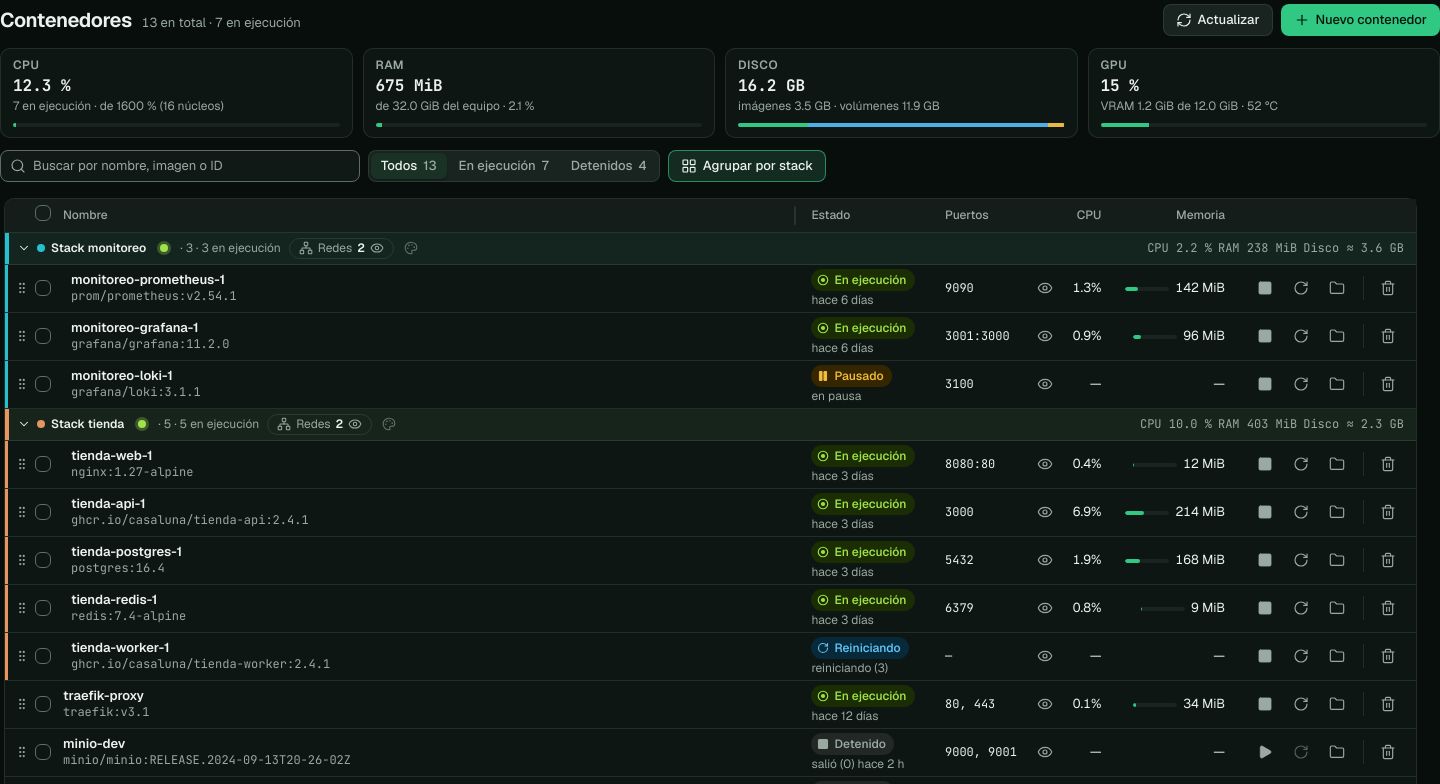
Test: ContainersPage › selección oculta por el filtro no cuenta ni se ejecuta
Expected: the link "tienda-api-1" is shown, x1=71 y1=495 x2=146 y2=512
Click the checkbox named "Seleccionar tienda-web-1". click: (43, 464)
box: x1=35 y1=456 x2=51 y2=472
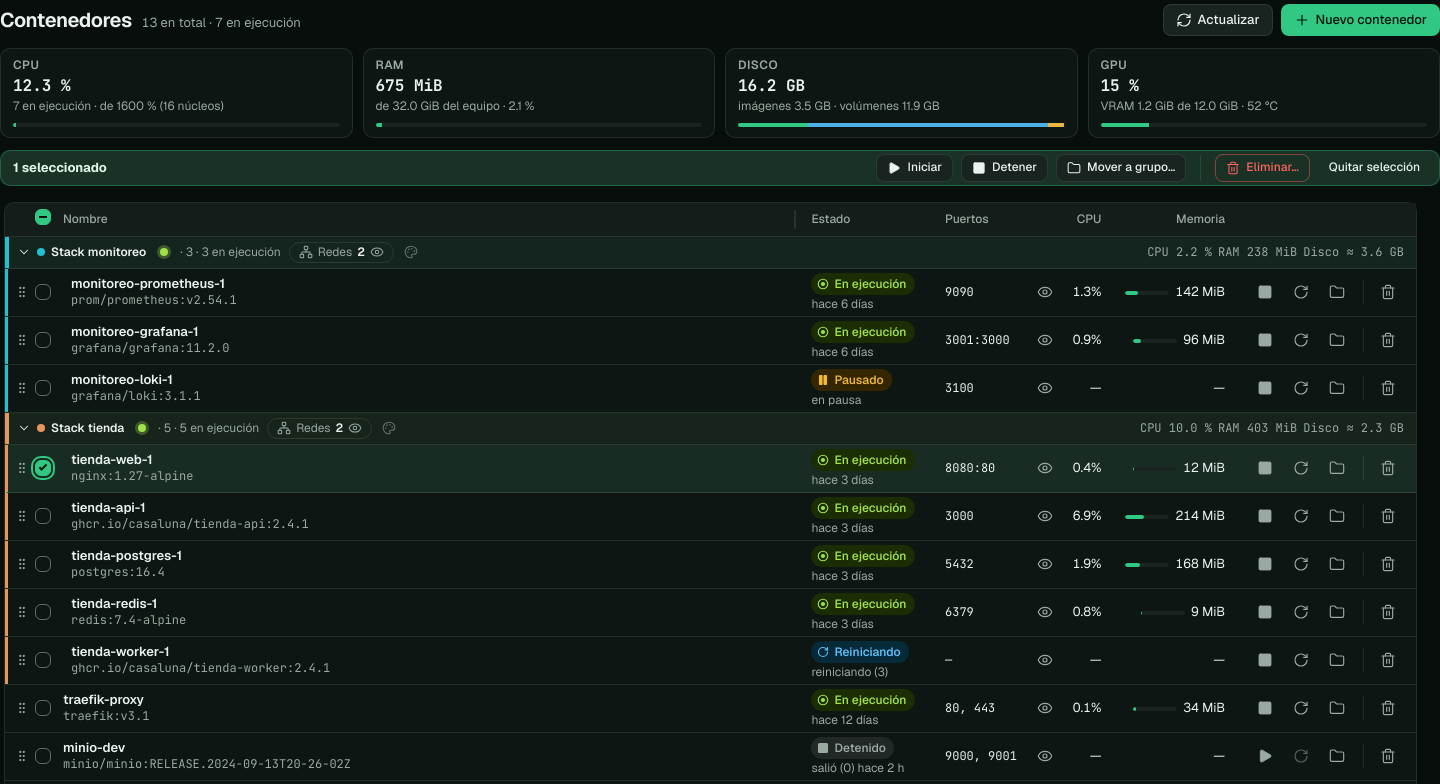
Click the checkbox named "Seleccionar minio-dev". click: (43, 756)
box: x1=35 y1=748 x2=51 y2=764
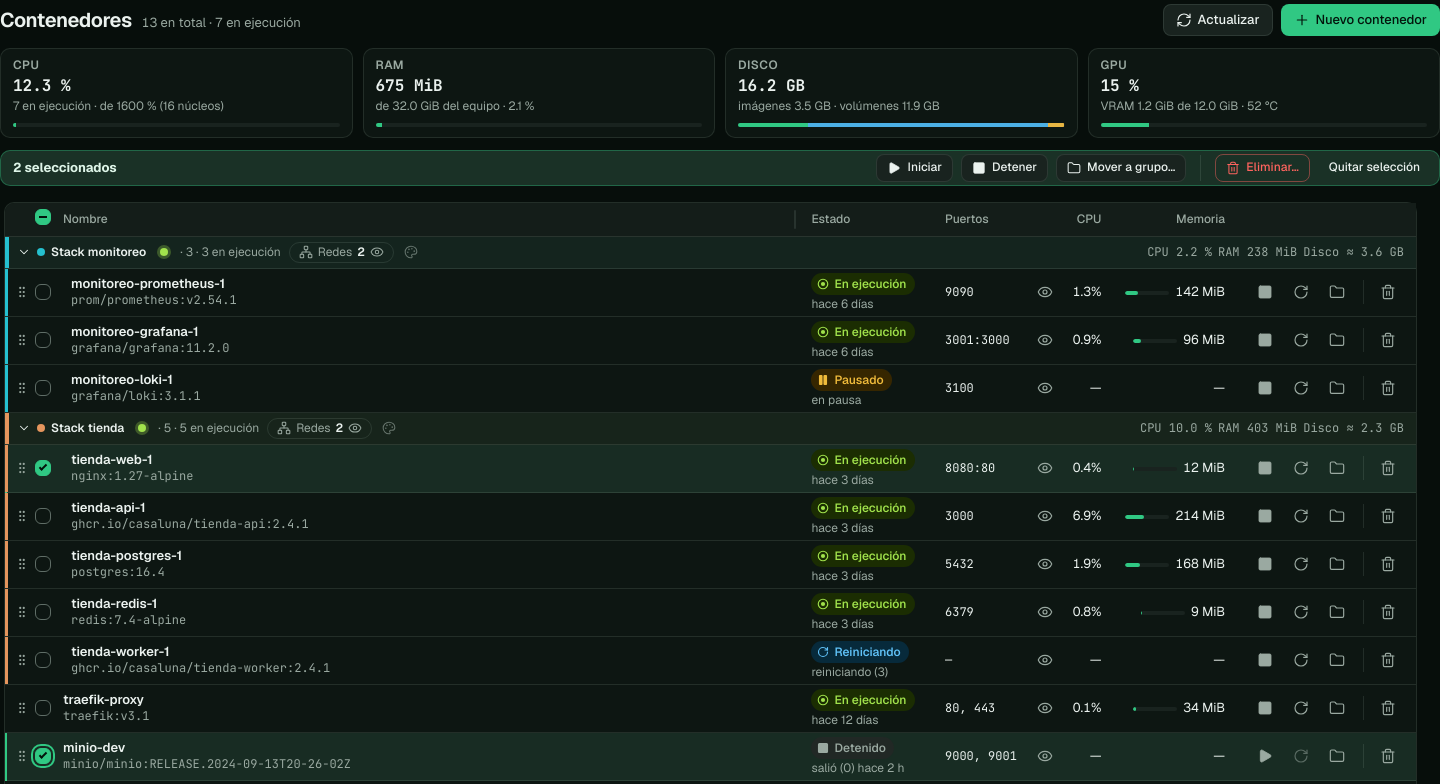
Result: the text "2 seleccionados" is shown at x1=13 y1=158 x2=117 y2=177
Click the button "Eliminar…". click: (1263, 168)
box: x1=1215 y1=154 x2=1310 y2=182
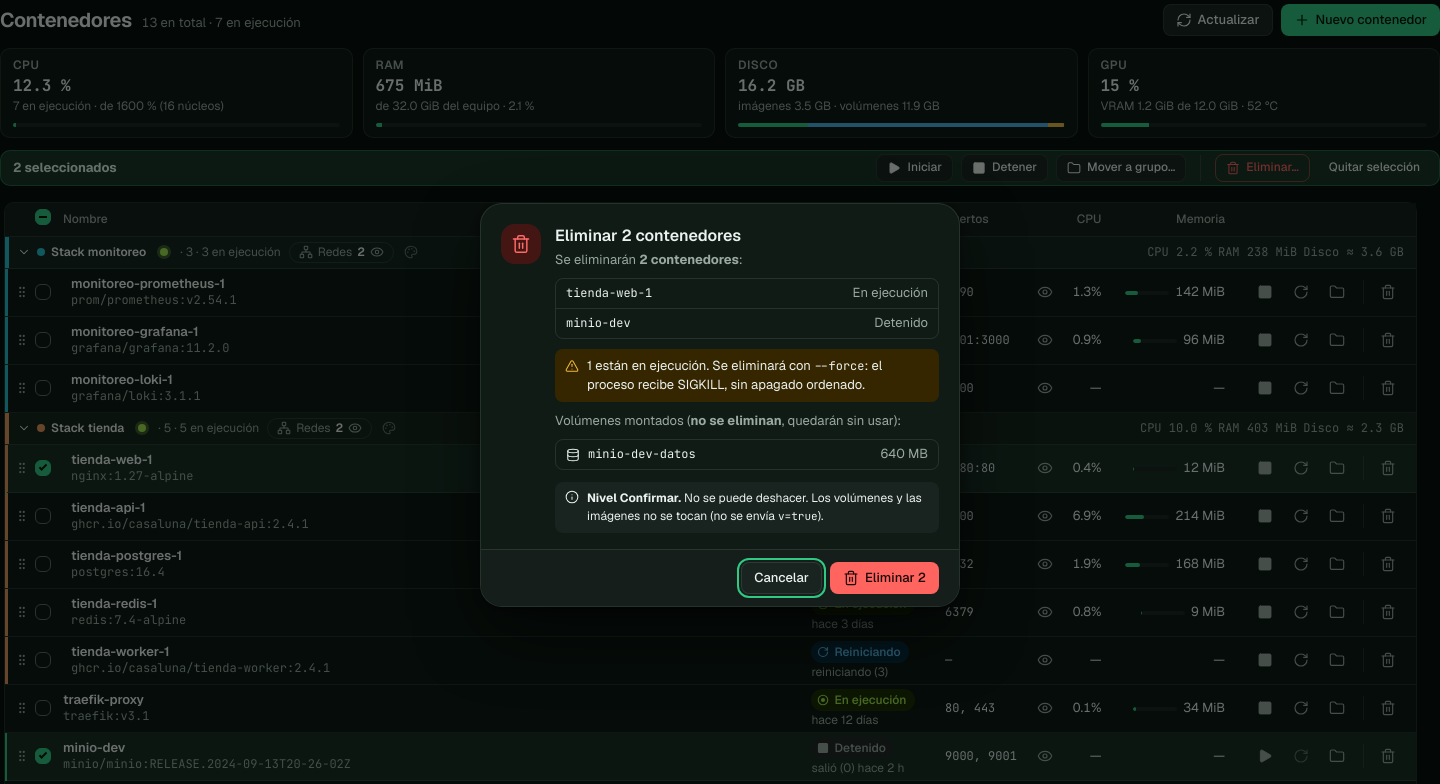
Result: the heading "Eliminar 2 contenedores" is shown at x1=555 y1=225 x2=741 y2=246
